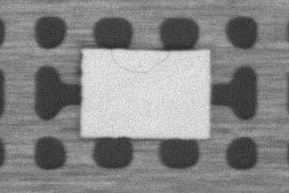DIE_CRACK: (109, 50, 173, 73)
